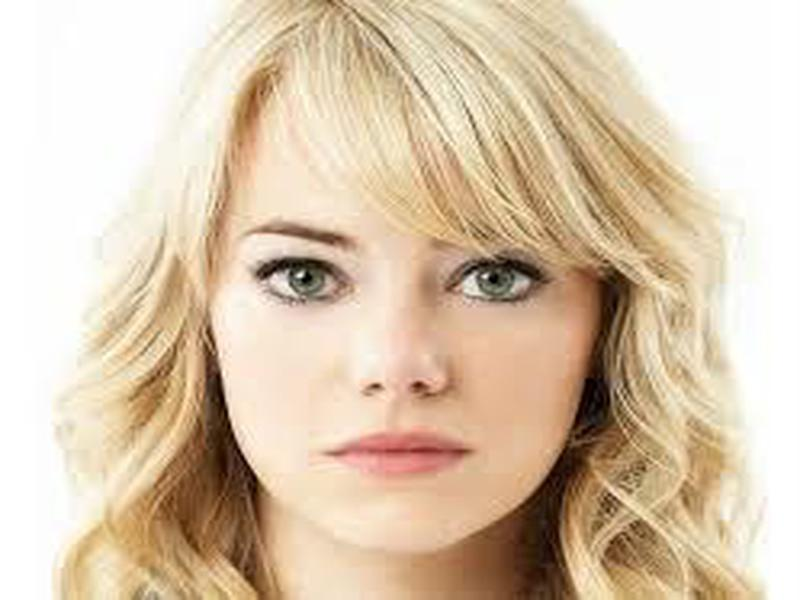without_mask: (210, 168, 597, 553)
